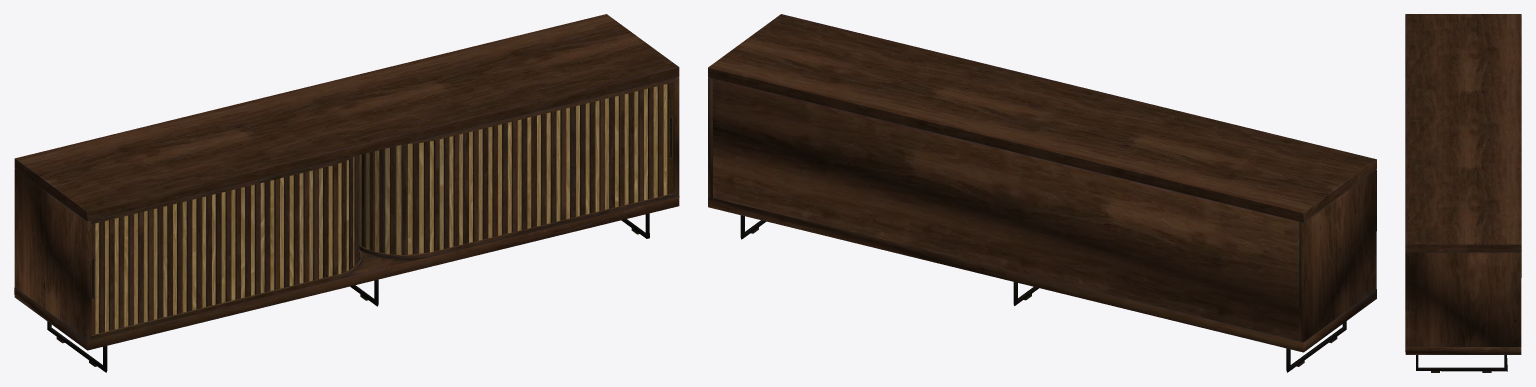
File: cabinet.glb
The picture shows the model from 3 angles, left to right: view 1: azimuth 30°, elevation 25°; view 2: azimuth 150°, elevation 25°; view 3: azimuth 270°, elevation 25°; orthographic projection. The views are drawn at different scales.
Visible parts, largest first — view 1: modern_wooden_cabinet_body, modern_wooden_cabinet_door_l; view 2: modern_wooden_cabinet_body; view 3: modern_wooden_cabinet_body.
Part boxes in pixels (left/top/right/bottom): modern_wooden_cabinet_body: left=14, top=14, right=679, bottom=372; modern_wooden_cabinet_door_l: left=91, top=82, right=673, bottom=334; modern_wooden_cabinet_body: left=708, top=14, right=1376, bottom=372; modern_wooden_cabinet_body: left=1405, top=14, right=1521, bottom=372.
Size of the model in its own units: 2.44 by 0.6801 by 0.5201.
1 material, 1 textured.
